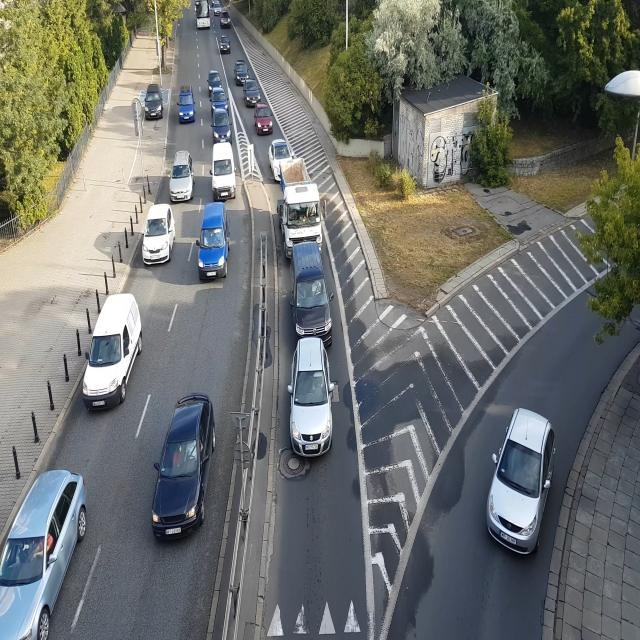bus: (195, 0, 212, 30)
car: (0, 457, 84, 640), (480, 406, 562, 560), (150, 389, 221, 555), (74, 290, 142, 410), (288, 340, 336, 464), (290, 244, 334, 338), (195, 204, 232, 284), (138, 202, 176, 268), (168, 147, 196, 206), (211, 147, 238, 203), (267, 134, 292, 172), (178, 81, 196, 128), (143, 85, 165, 120), (255, 106, 276, 138), (242, 75, 261, 105), (212, 113, 231, 141), (232, 56, 250, 82), (210, 82, 226, 103), (207, 60, 221, 84), (220, 31, 230, 52), (220, 11, 230, 29), (213, 3, 222, 15)
truck: (277, 162, 325, 255)
